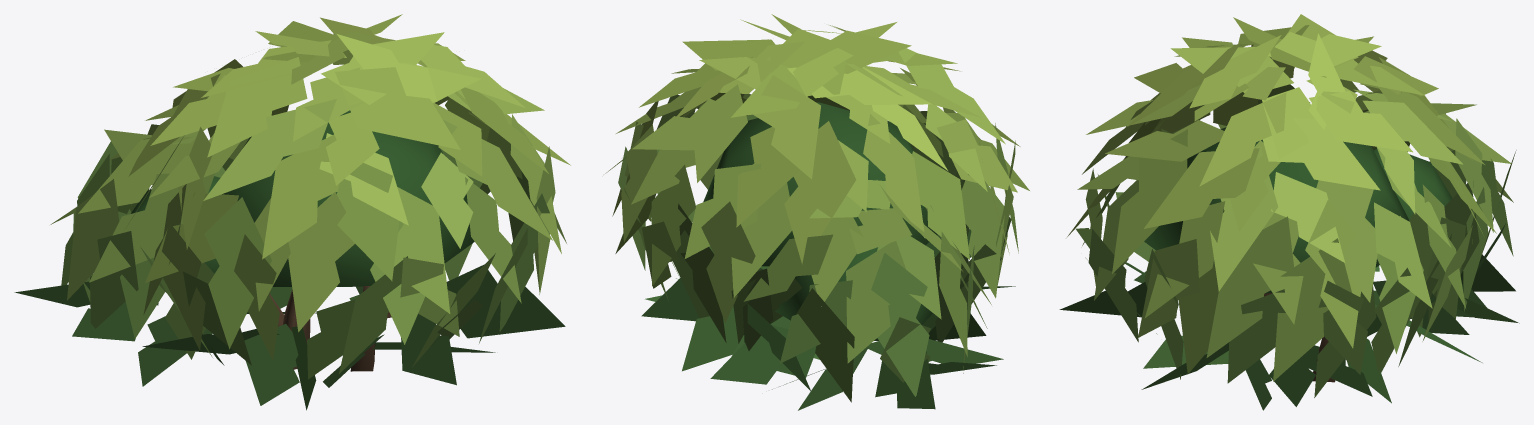
Rendered from dome_bush_3.glb.
3 renders of one model, left to right at view 1: azimuth 30°, elevation 25°; view 2: azimuth 150°, elevation 25°; view 3: azimuth 270°, elevation 25°, orthographic. The views are drawn at different scales.
Visible parts, largest first — view 1: dome_bush_3; view 2: dome_bush_3; view 3: dome_bush_3.
Part boxes in pixels (bbox=[...]): dome_bush_3: bbox=[14, 14, 570, 410]; dome_bush_3: bbox=[605, 14, 1029, 410]; dome_bush_3: bbox=[1059, 14, 1519, 410].
Size of the model in its own units: 1.1 by 0.75 by 1.
Materials: 2 (2 with a texture image).
